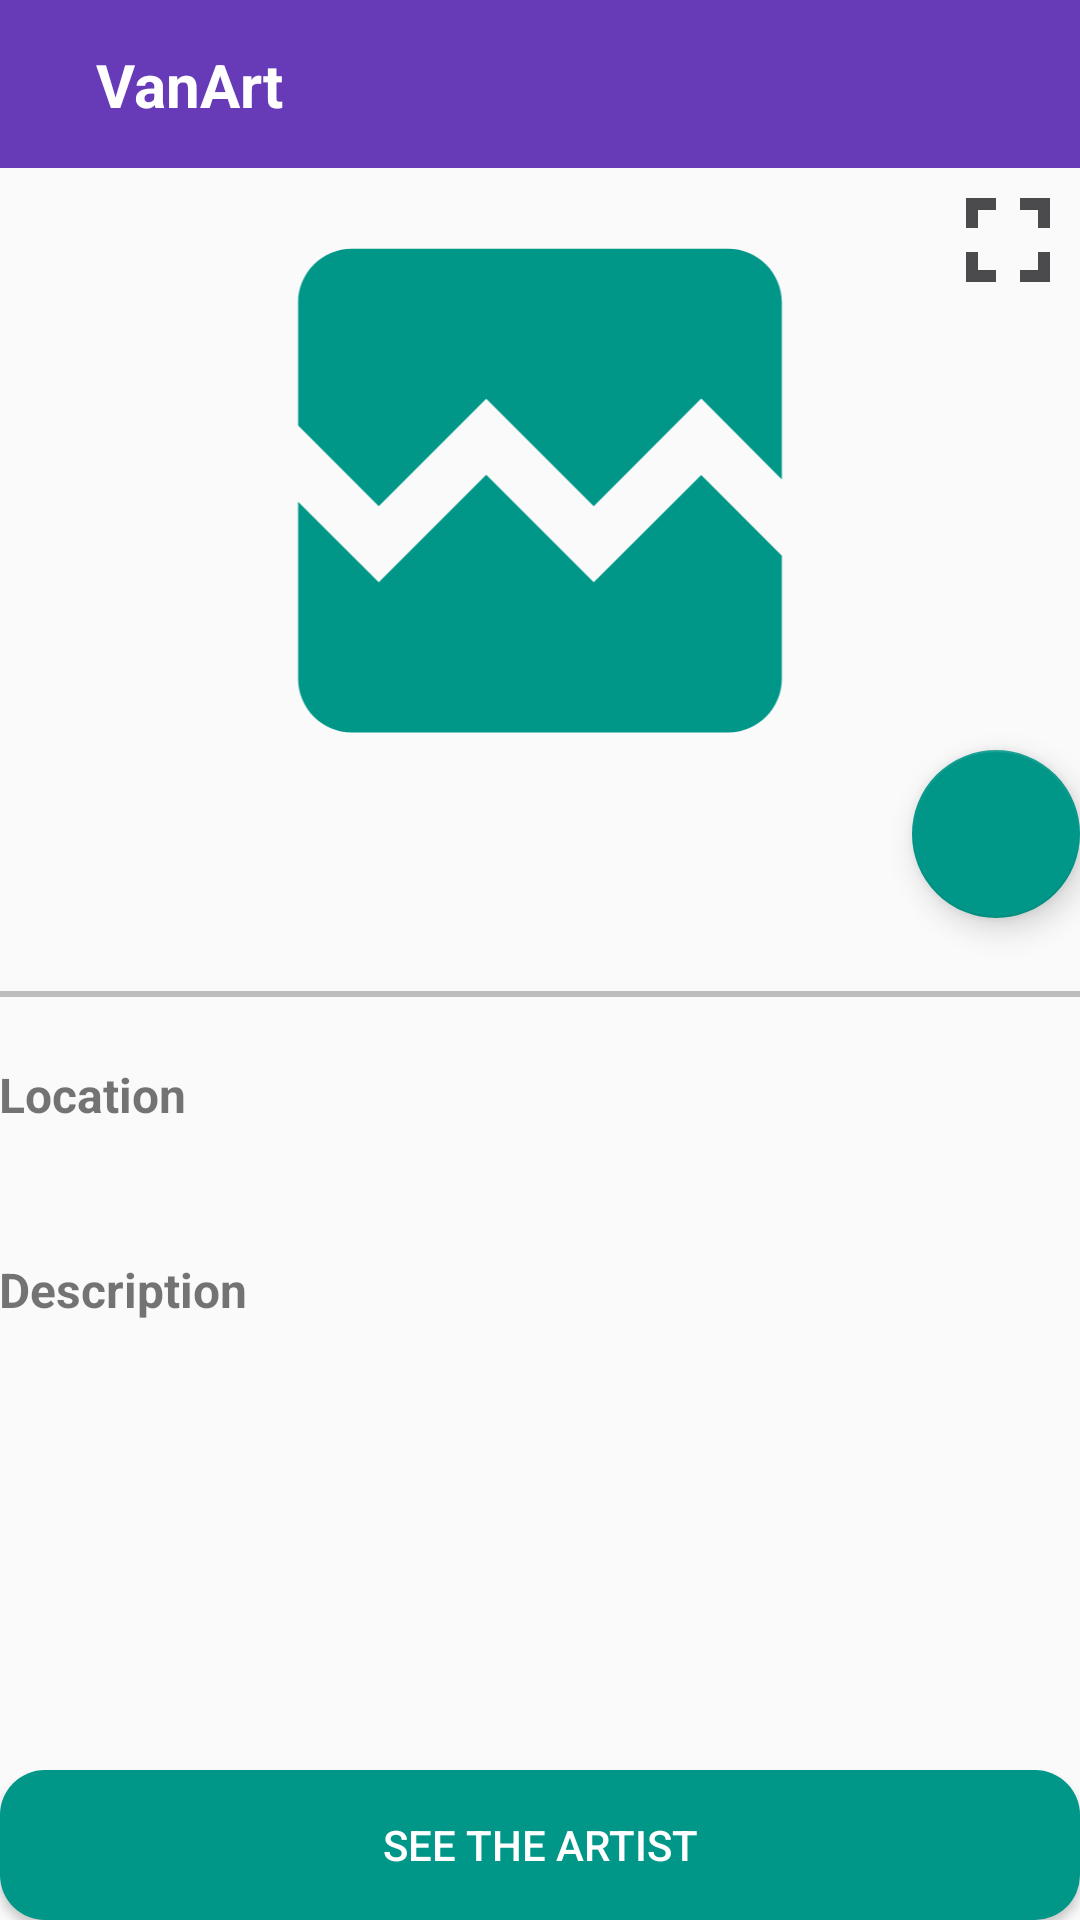

Locate icon controls on the screen. Image size 1080w x 1920h, boxes as (x1, y1, x2, y2).
fullscreen: (966, 198, 1050, 282)
